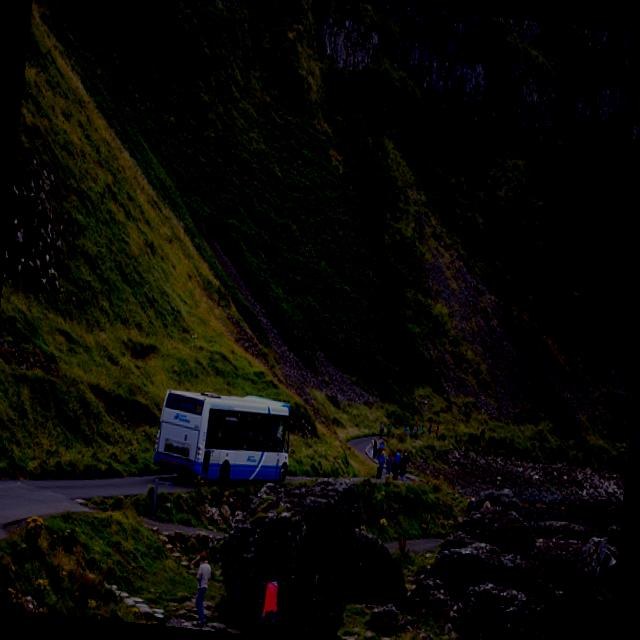Vehicle: (152, 388, 294, 494)
